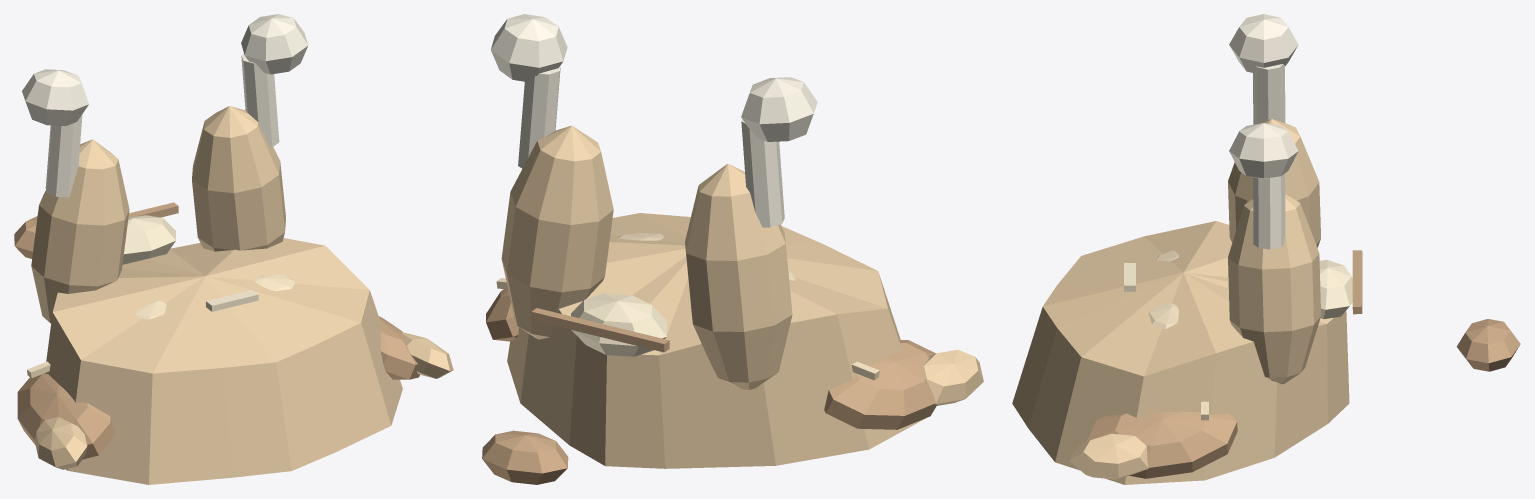
Rendered from hainanese_chicken_cut.glb.
The picture shows the model from 3 angles, left to right: view 1: azimuth 30°, elevation 25°; view 2: azimuth 150°, elevation 25°; view 3: azimuth 270°, elevation 25°; orthographic projection. The views are drawn at different scales.
Visible parts, largest first — view 1: body_main, left_drumlet_meat, right_drumlet_meat, left_wing_upper, right_drumlet_bone_knob, left_drumlet_bone_knob, left_drumlet_bone, left_wing_tip, right_drumlet_bone, body_neck_cap, right_wing_upper, right_wing_tip (+3 smaller); view 2: body_main, left_drumlet_meat, right_drumlet_meat, left_wing_upper, right_drumlet_bone_knob, left_drumlet_bone_knob, body_tail_nub, body_neck_cap, left_drumlet_bone, right_drumlet_bone, left_wing_tip, body_skin_line (+1 smaller); view 3: body_main, right_drumlet_meat, right_wing_upper, left_drumlet_meat, right_drumlet_bone_knob, left_drumlet_bone_knob, right_wing_tip, body_tail_nub, right_drumlet_bone, left_drumlet_bone, body_neck_cap, body_skin_line (+1 smaller).
Part boxes in pixels (x1,y1,x2,y2): body_main: (45, 238, 402, 484); left_drumlet_meat: (31, 139, 129, 323); right_drumlet_meat: (192, 106, 285, 251); left_wing_upper: (17, 373, 114, 459); right_drumlet_bone_knob: (241, 14, 308, 74); left_drumlet_bone_knob: (22, 69, 88, 126); left_drumlet_bone: (45, 114, 82, 197); left_wing_tip: (34, 417, 87, 469); right_drumlet_bone: (241, 53, 279, 147); body_neck_cap: (122, 215, 175, 264); right_wing_upper: (378, 316, 419, 379); right_wing_tip: (401, 332, 453, 378); body_main: (507, 213, 925, 468); left_drumlet_meat: (685, 163, 792, 389); right_drumlet_meat: (501, 125, 613, 339); left_wing_upper: (824, 340, 936, 429); right_drumlet_bone_knob: (491, 14, 567, 82); left_drumlet_bone_knob: (741, 77, 817, 141); body_tail_nub: (482, 430, 568, 484); body_neck_cap: (571, 293, 666, 356); left_drumlet_bone: (741, 119, 784, 227); right_drumlet_bone: (518, 66, 560, 168); left_wing_tip: (923, 349, 983, 405); body_skin_line: (531, 308, 669, 352); body_main: (1012, 221, 1349, 484); right_drumlet_meat: (1228, 193, 1320, 384); right_wing_upper: (1087, 411, 1237, 478); left_drumlet_meat: (1228, 119, 1320, 247); right_drumlet_bone_knob: (1229, 123, 1298, 178); left_drumlet_bone_knob: (1229, 14, 1298, 72); right_wing_tip: (1069, 433, 1148, 479); body_tail_nub: (1456, 319, 1520, 371); right_drumlet_bone: (1253, 173, 1285, 249); left_drumlet_bone: (1253, 64, 1285, 124); body_neck_cap: (1319, 260, 1352, 319); body_skin_line: (1352, 250, 1362, 314).
Bounding box in the file's own units: 1.71 × 1.37 × 1.9.
